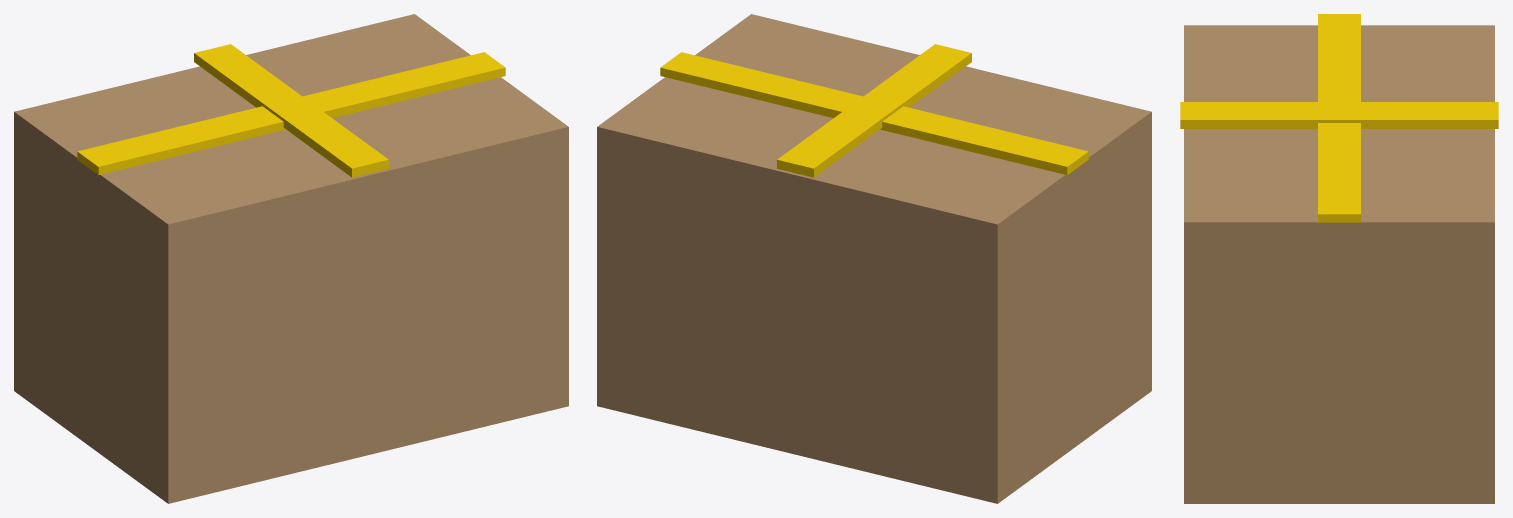
The picture shows the model from 3 angles, left to right: view 1: azimuth 30°, elevation 25°; view 2: azimuth 150°, elevation 25°; view 3: azimuth 270°, elevation 25°; orthographic projection.
Parts seen in each view (by area): view 1: cardboard_body, tape_long, tape_cross; view 2: cardboard_body, tape_long, tape_cross; view 3: cardboard_body, tape_cross, tape_long.
Boxes of the visible parts, x1,y1,x2,y2 form: cardboard_body: [14, 14, 568, 503]; tape_long: [77, 52, 505, 175]; tape_cross: [194, 44, 388, 177]; cardboard_body: [597, 14, 1151, 503]; tape_long: [660, 52, 1088, 175]; tape_cross: [777, 44, 971, 177]; cardboard_body: [1184, 25, 1494, 503]; tape_cross: [1180, 102, 1498, 128]; tape_long: [1318, 14, 1360, 222].
Bounding box in the file's own units: 0.61 × 0.4185 × 0.41.
